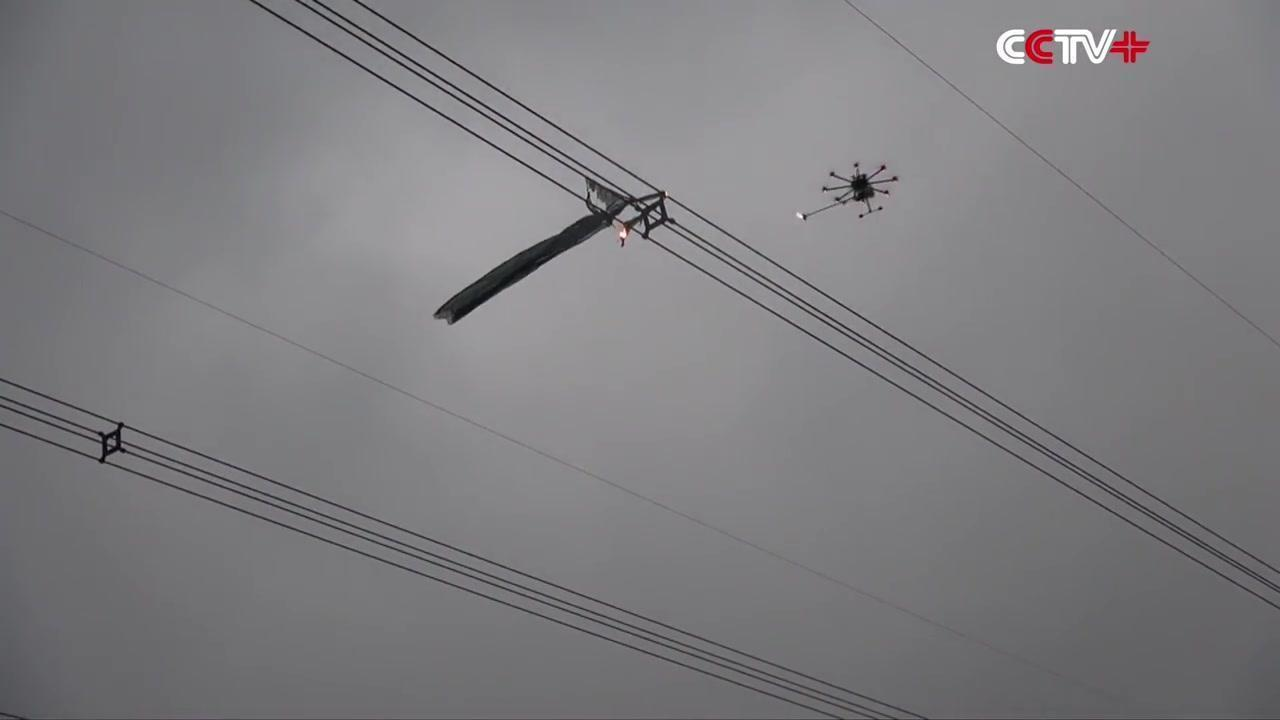UAV: (797, 162, 900, 222)
